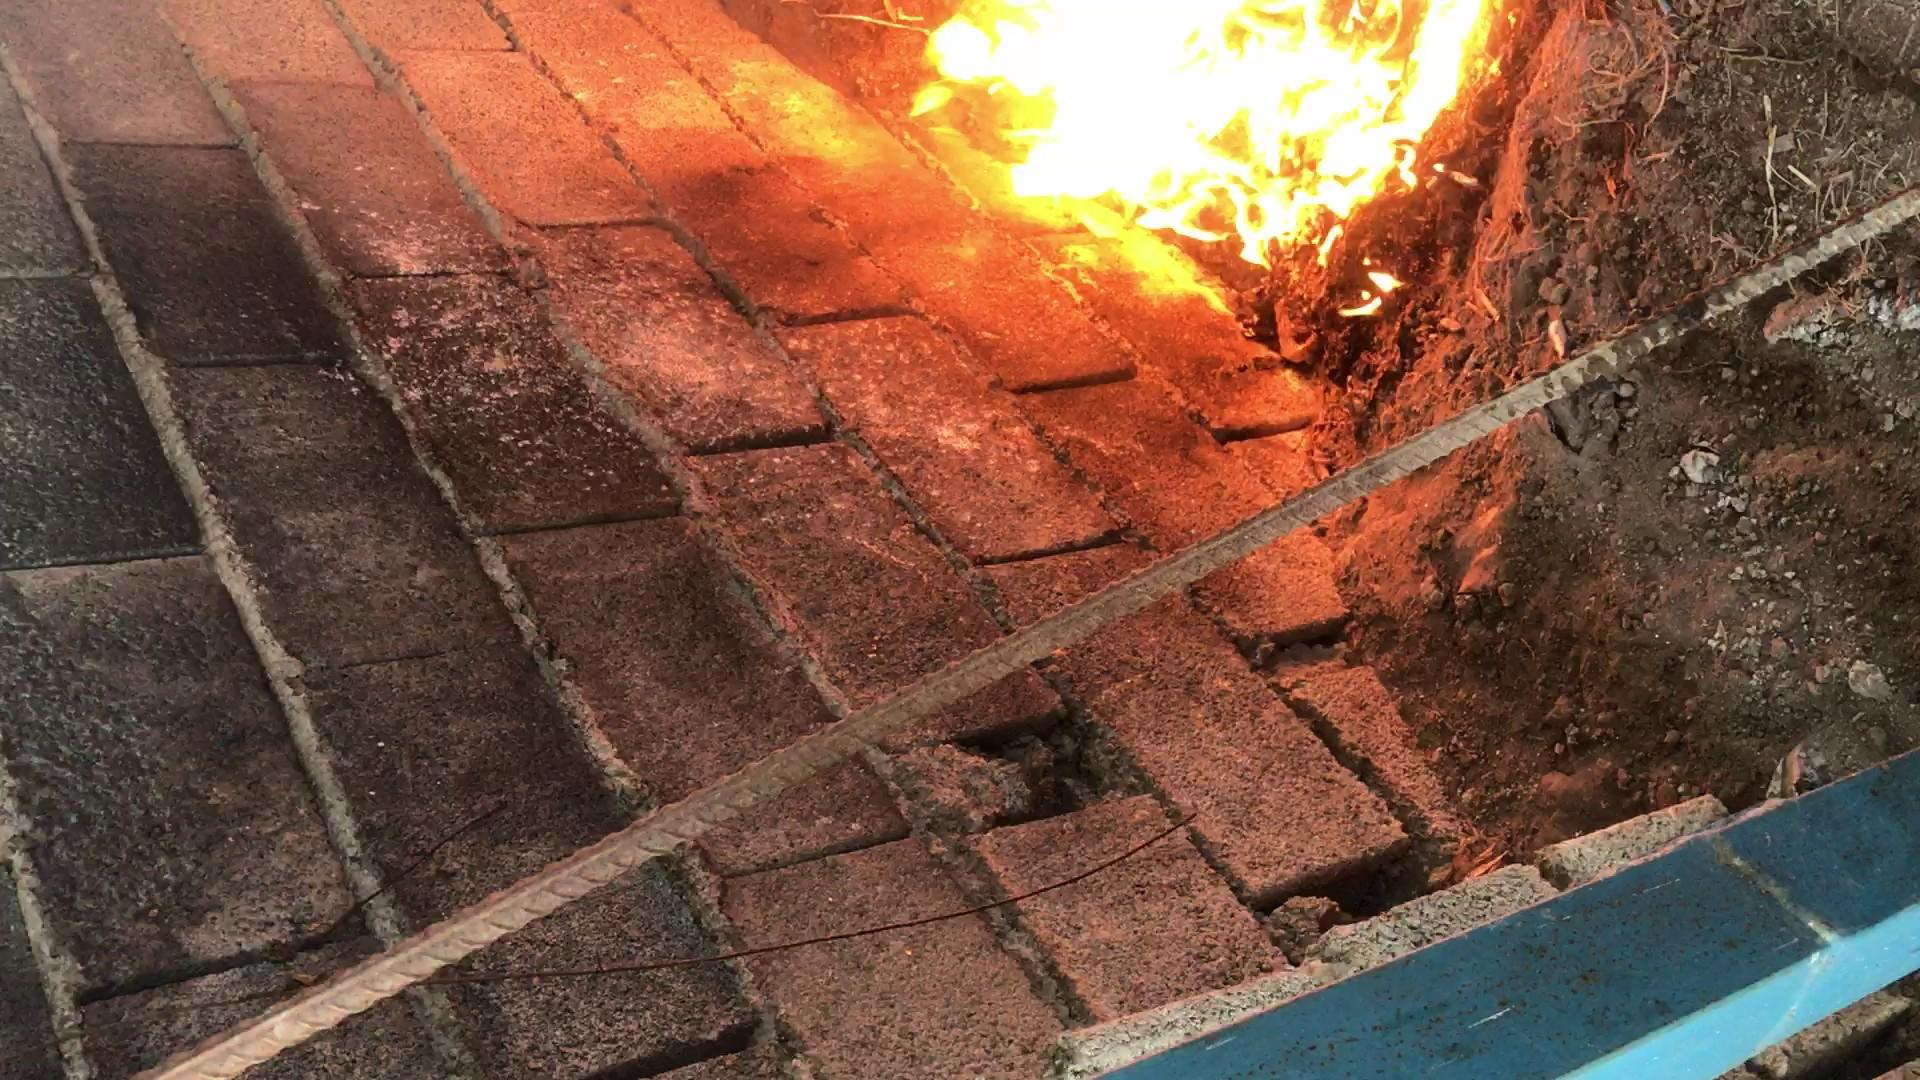fire: (1485, 553, 1916, 835)
